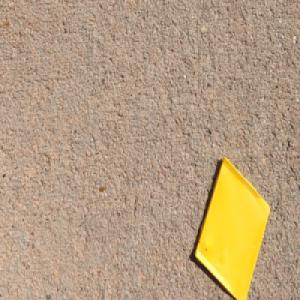PlasticPart: (193, 156, 271, 300)
